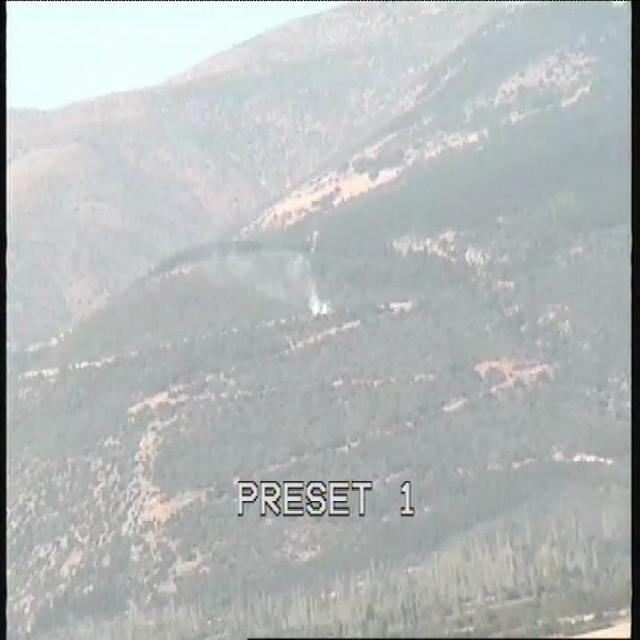smoke: (290, 280, 334, 318)
